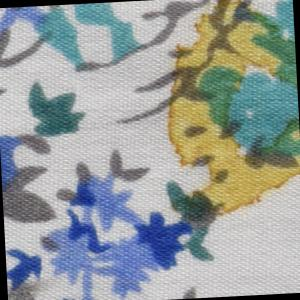Oil Stain: (160, 1, 300, 225)
Stain: (7, 271, 63, 300)
